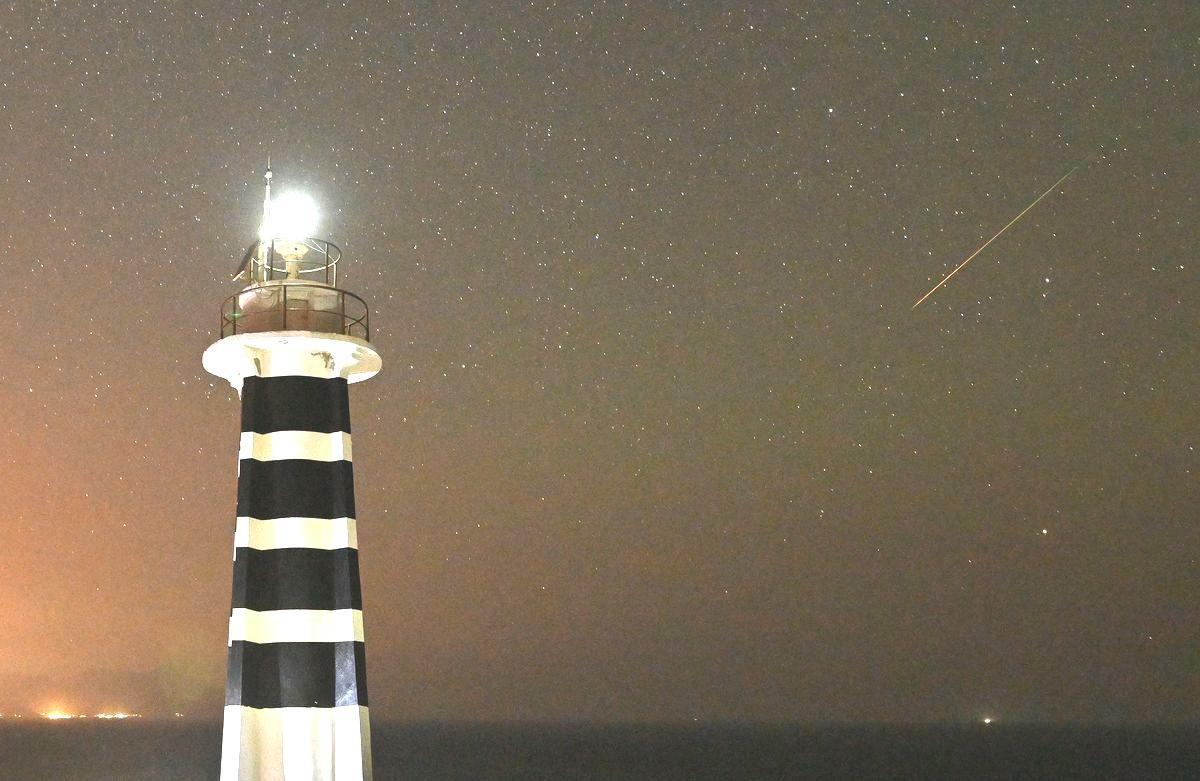meteorite: (882, 171, 1072, 322)
